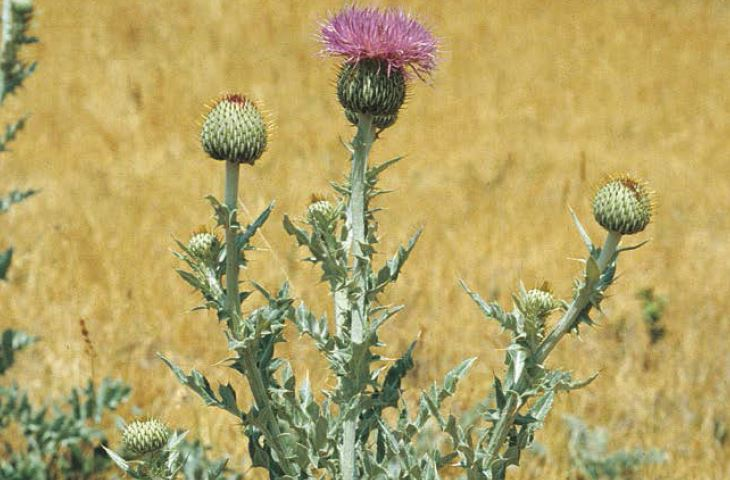thistle: (313, 6, 438, 124)
